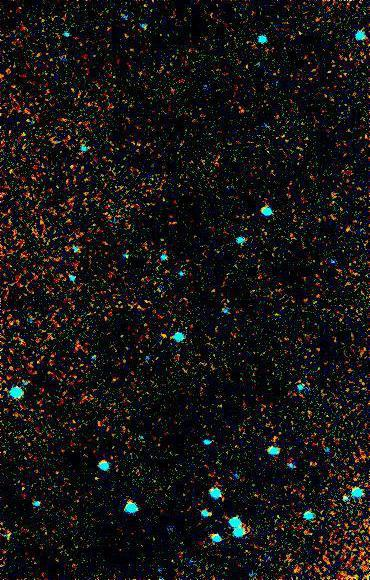star: (147, 322, 177, 352)
